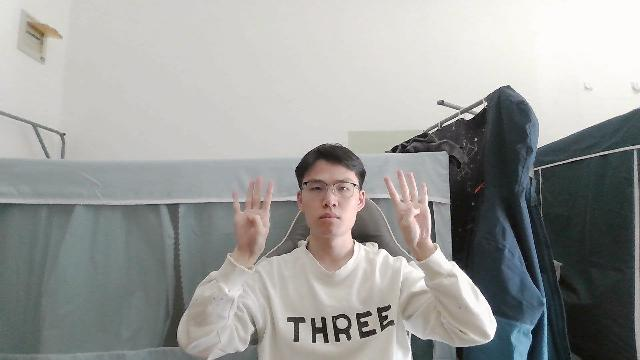four: (382, 166, 434, 253), (232, 176, 275, 254)
